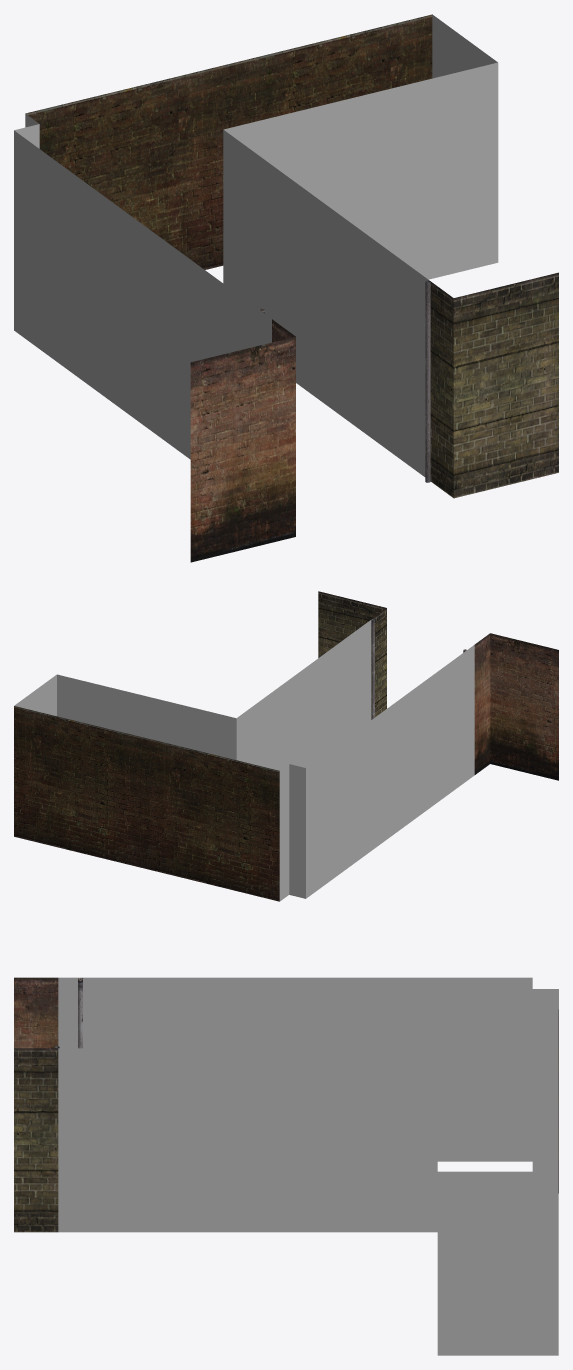
Rendered from Alley_02_Top.fbx.
3 views of the same model, one above another, from view 1: azimuth 30°, elevation 25°; view 2: azimuth 150°, elevation 25°; view 3: azimuth 270°, elevation 25° (orthographic). The views are drawn at different scales.
Visible parts, largest first — view 1: Alley_02_Top; view 2: Alley_02_Top; view 3: Alley_02_Top.
Boxes of the visible parts, <box> form: Alley_02_Top: <box>14,14,558,562</box>; Alley_02_Top: <box>14,591,558,901</box>; Alley_02_Top: <box>14,977,558,1355</box>.
Size of the model in its own units: 1022 by 364 by 976.
